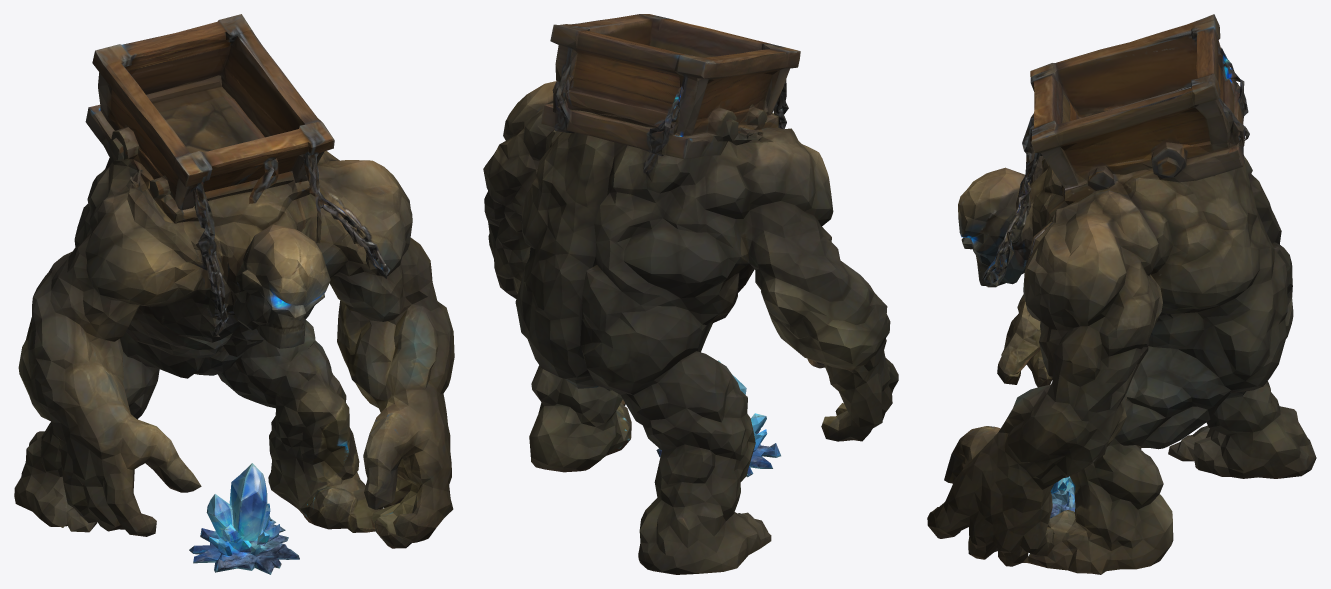
Rendered from The_Stone_Guardian_0416165110_texture.fbx.
3 views of the same model, side by side, from view 1: azimuth 30°, elevation 25°; view 2: azimuth 150°, elevation 25°; view 3: azimuth 270°, elevation 25° (orthographic). The views are drawn at different scales.
Parts seen in each view (by area): view 1: temp; view 2: temp; view 3: temp.
Part boxes in pixels (x1,y1,x2,y2): temp: (14, 14, 454, 574); temp: (483, 14, 898, 574); temp: (927, 14, 1316, 574).
Bounding box in the file's own units: 178 × 200 × 154.
1 material, 1 textured.
